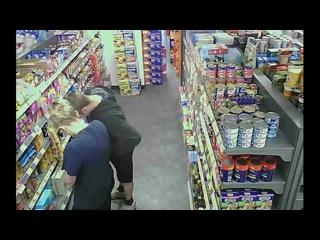Normal: (64, 86, 142, 208), (46, 95, 115, 210)
